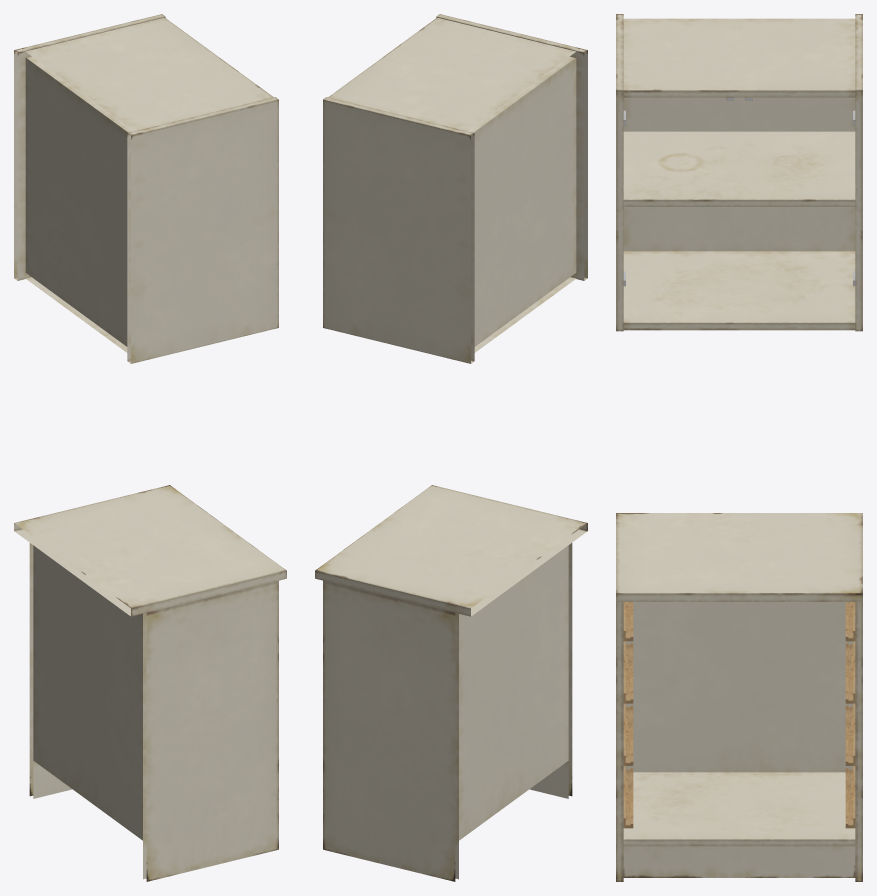
Rendered from FurnitureKicthen02.FBX.
3 renders of one model, left to right at view 1: azimuth 30°, elevation 25°; view 2: azimuth 150°, elevation 25°; view 3: azimuth 270°, elevation 25°, orthographic. The views are drawn at different scales.
Parts seen in each view (by area): view 1: FurnitureKicthen02; view 2: FurnitureKicthen02; view 3: FurnitureKicthen02.
Part boxes in pixels (bbox=[...]): FurnitureKicthen02: bbox=[14, 14, 286, 881]; FurnitureKicthen02: bbox=[315, 14, 587, 881]; FurnitureKicthen02: bbox=[616, 14, 862, 881].
Bounding box in the file's own units: 50 × 65 × 230.
